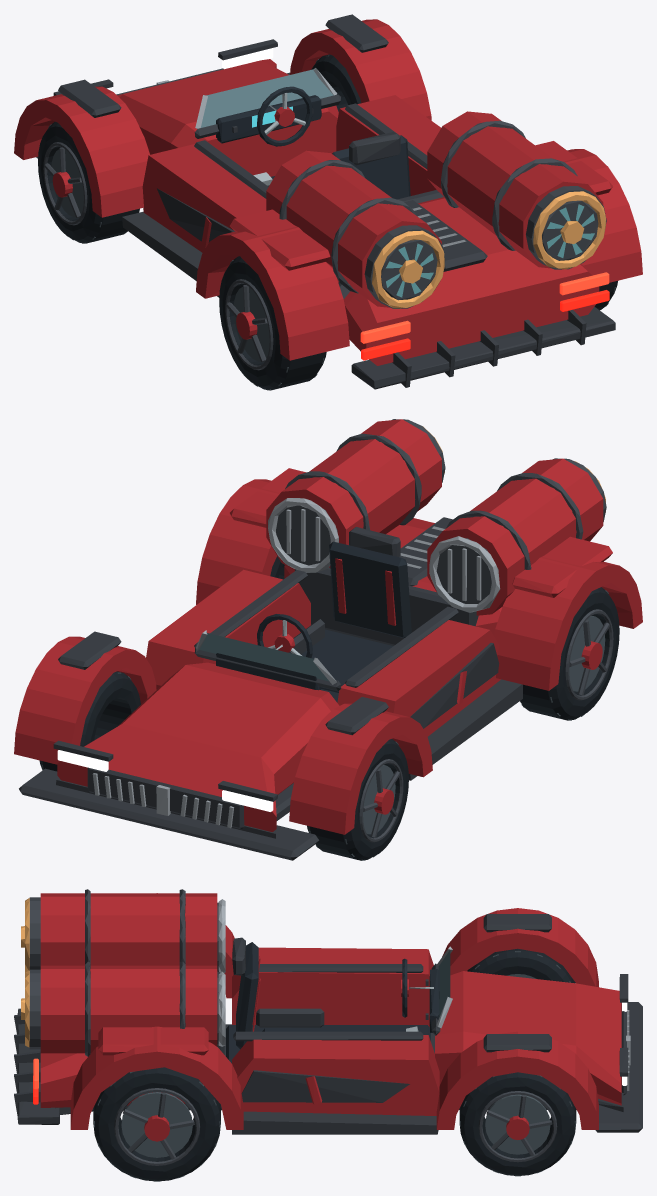
Rendered from ignis_lod0.glb.
The picture shows the model from 3 angles, top to bottom: view 1: azimuth 30°, elevation 25°; view 2: azimuth 150°, elevation 25°; view 3: azimuth 270°, elevation 25°; orthographic projection. The views are drawn at different scales.
Parts seen in each view (by area): view 1: body_mesh, wheel_rl, wheel_fl, steering_wheel, light_tail_mesh, wheel_fr, light_brake_mesh; view 2: body_mesh, wheel_rl, wheel_fl, wheel_fr, light_head_mesh, steering_wheel; view 3: body_mesh, wheel_rr, wheel_fr, wheel_fl.
Boxes of the visible parts, <box> form: body_mesh: <box>14,14,642,389</box>; wheel_rl: <box>219,256,326,390</box>; wheel_fl: <box>38,121,139,243</box>; steering_wheel: <box>257,86,312,146</box>; light_tail_mesh: <box>360,272,609,343</box>; wheel_fr: <box>311,54,361,112</box>; light_brake_mesh: <box>361,290,609,360</box>; body_mesh: <box>14,419,642,860</box>; wheel_rl: <box>520,587,619,720</box>; wheel_fl: <box>307,739,408,860</box>; wheel_fr: <box>39,671,140,771</box>; light_head_mesh: <box>57,750,273,811</box>; steering_wheel: <box>257,614,312,657</box>; body_mesh: <box>14,889,642,1134</box>; wheel_rr: <box>93,1067,220,1181</box>; wheel_fr: <box>459,1072,576,1176</box>; wheel_fl: <box>467,948,575,983</box>.
Bounding box in the file's own units: 2.06 × 1.08 × 3.45.
